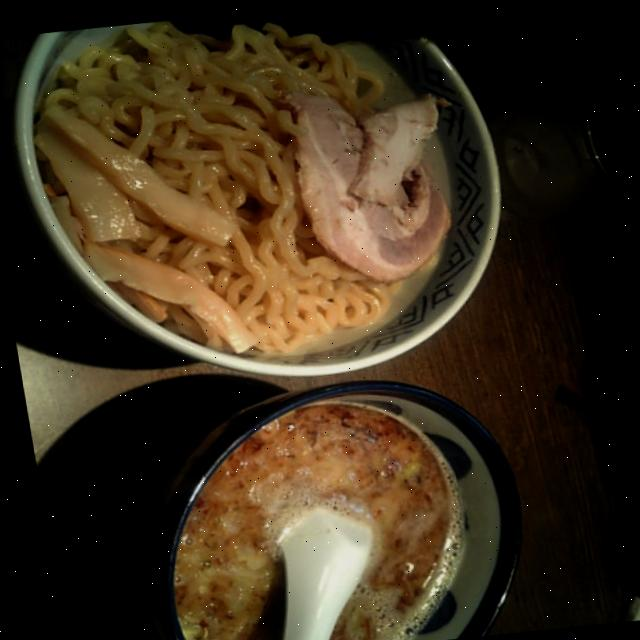面条主食: (6, 158, 640, 606)
